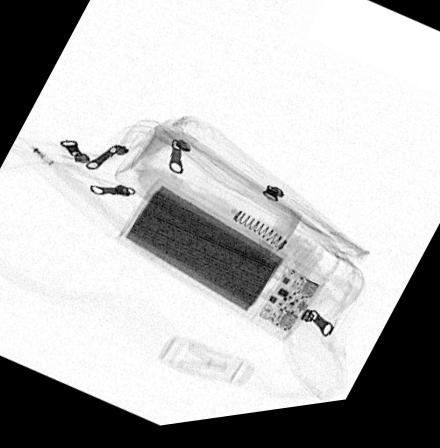Powerbank: (116, 182, 328, 349)
